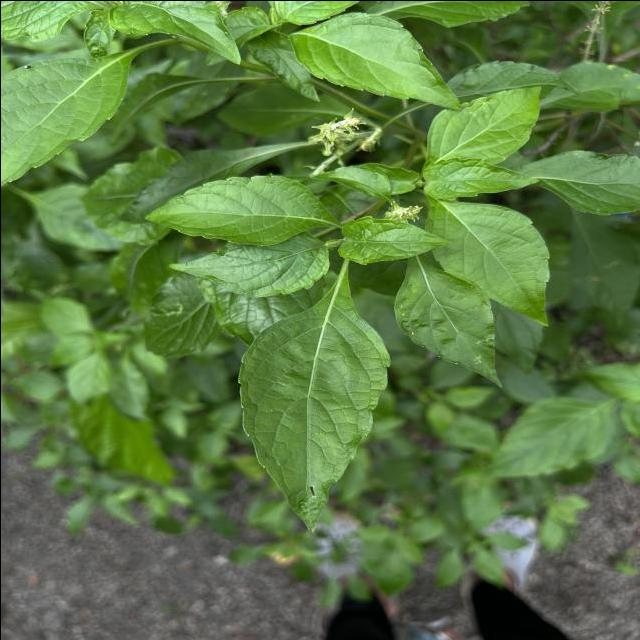Ocimum gratissimum: (230, 284, 392, 538), (0, 41, 138, 188), (286, 8, 466, 112), (419, 195, 553, 328), (389, 256, 505, 388), (140, 172, 342, 247), (164, 232, 334, 300), (421, 82, 542, 172), (513, 147, 639, 217), (332, 212, 456, 266)
